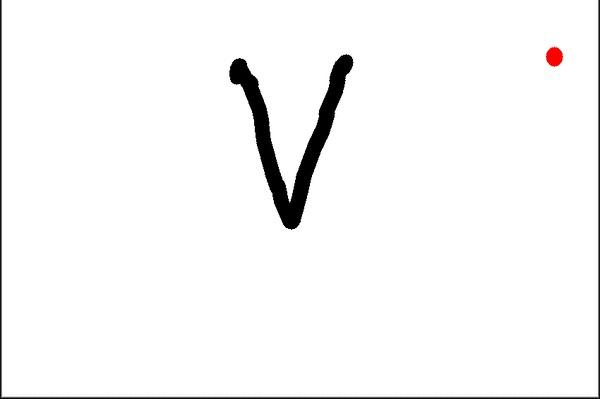V: (222, 49, 358, 232)
